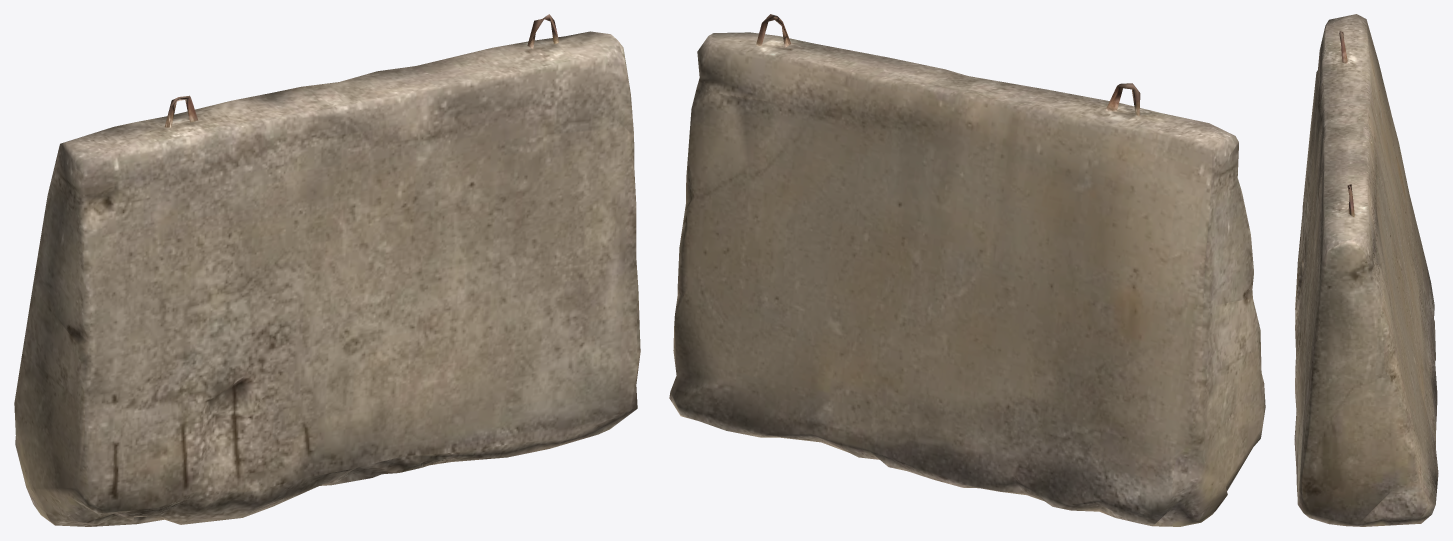
Rendered from concrete_road_barrier_02.glb.
3 views of the same model, side by side, from view 1: azimuth 30°, elevation 25°; view 2: azimuth 150°, elevation 25°; view 3: azimuth 270°, elevation 25° (orthographic). The views are drawn at different scales.
Visible parts, largest first — view 1: concrete_road_barrier_02; view 2: concrete_road_barrier_02; view 3: concrete_road_barrier_02.
Boxes of the visible parts, box(x1,y1,x2,y2) form: concrete_road_barrier_02: box(14, 14, 640, 526); concrete_road_barrier_02: box(669, 14, 1265, 526); concrete_road_barrier_02: box(1294, 14, 1438, 526).
Size of the model in its own units: 1.56 by 1.11 by 0.437.
Materials: 1 (1 with a texture image).
